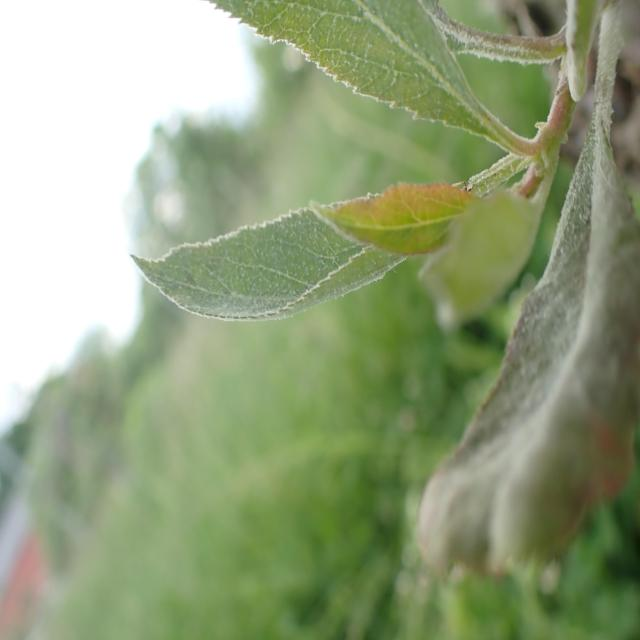Powdery_mildew: (428, 82, 634, 624), (132, 158, 514, 330), (215, 0, 479, 127)
